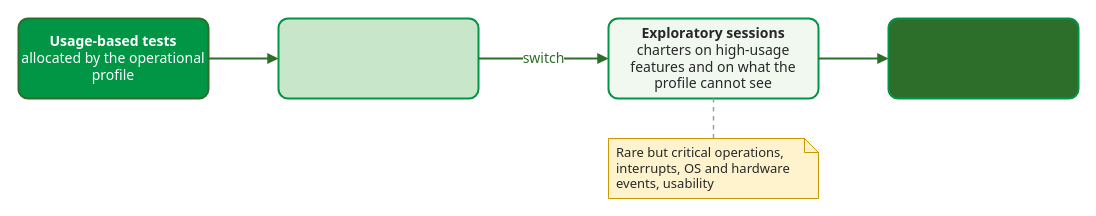
Some shapes in this 1096 by 216 pixel diagram are drawn without their labels. The centre of each missing label's shape, as x and y in pixels:
Regression tests bugs found by exploring become scripted checks: pixel 983 58
Saturation reliability stops improving: the frequent paths are clean: pixel 378 58
